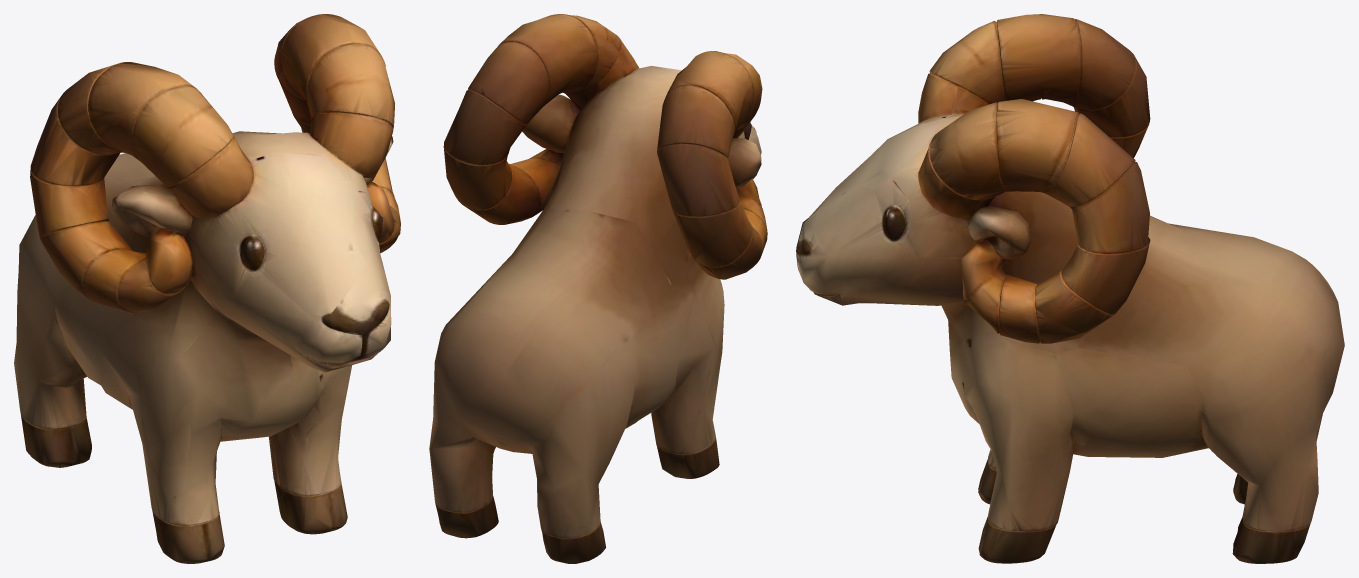
File: ram_pbr.glb
3 views of the same model, side by side, from view 1: azimuth 30°, elevation 25°; view 2: azimuth 150°, elevation 25°; view 3: azimuth 270°, elevation 25° (orthographic). The views are drawn at different scales.
Visible parts, largest first — view 1: model.015; view 2: model.015; view 3: model.015.
Boxes of the visible parts, box(x1,y1,x2,y2) form: model.015: box(14, 14, 400, 563); model.015: box(429, 14, 767, 563); model.015: box(796, 14, 1344, 563).
Size of the model in its own units: 1.08 by 1.46 by 1.58.
Materials: 1 (1 with a texture image).
